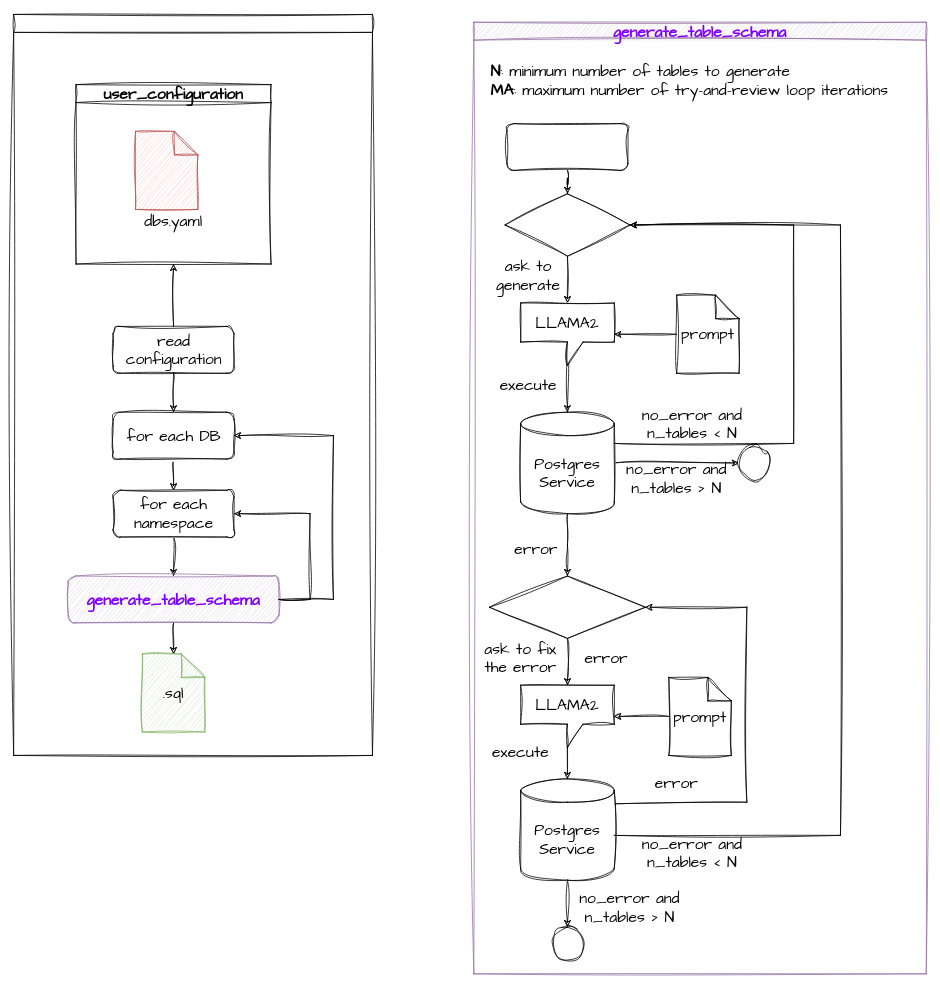
Some shapes in this 940 by 987 pixel diagram are drawn without their labels. The centre of each missing label's shape, as x and y in pixels:
"n_attempts < MA" goes at (x=567, y=606).
"n_tables < N" goes at (x=567, y=224).
"n_tables = 0" goes at (x=567, y=146).
"Tables schema generation" goes at (x=192, y=384).
